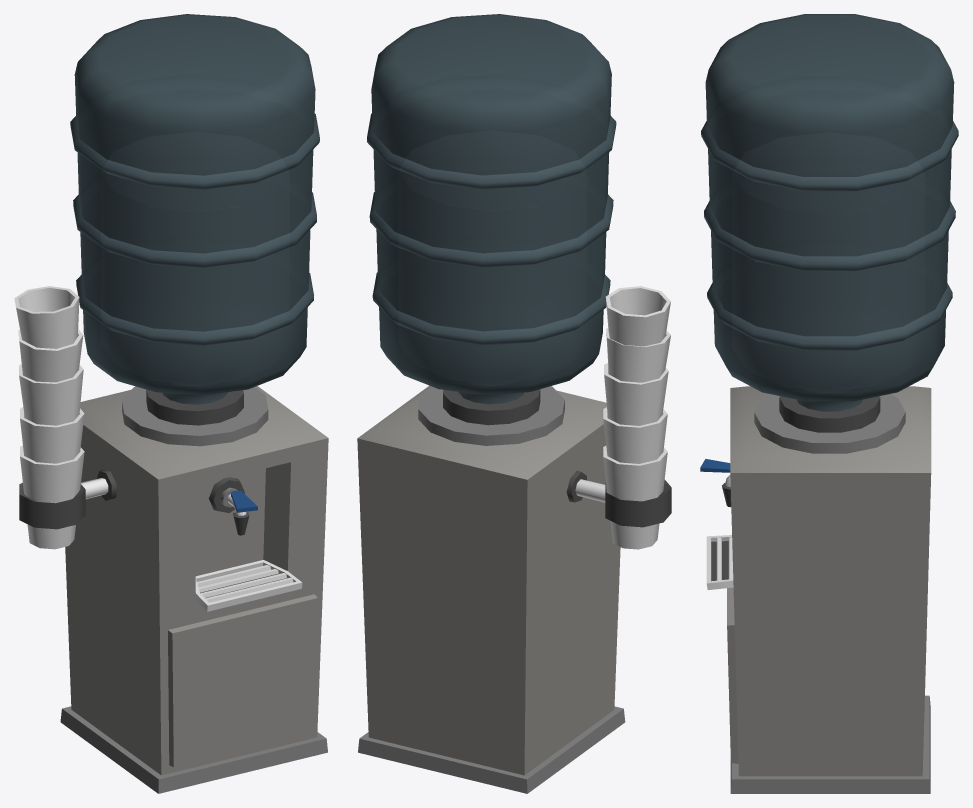
Rendered from officeWater.glb.
3 renders of one model, left to right at view 1: azimuth 30°, elevation 25°; view 2: azimuth 150°, elevation 25°; view 3: azimuth 270°, elevation 25°, orthographic. The views are drawn at different scales.
Parts seen in each view (by area): view 1: Cube.023_4; view 2: Cube.023_4; view 3: Cube.023_4.
Boxes of the visible parts, left/top/right/bottom form: Cube.023_4: left=14, top=14, right=328, bottom=793; Cube.023_4: left=357, top=14, right=671, bottom=793; Cube.023_4: left=700, top=14, right=958, bottom=793.
Bounding box in the file's own units: 0.843 × 1.94 × 0.6538.
